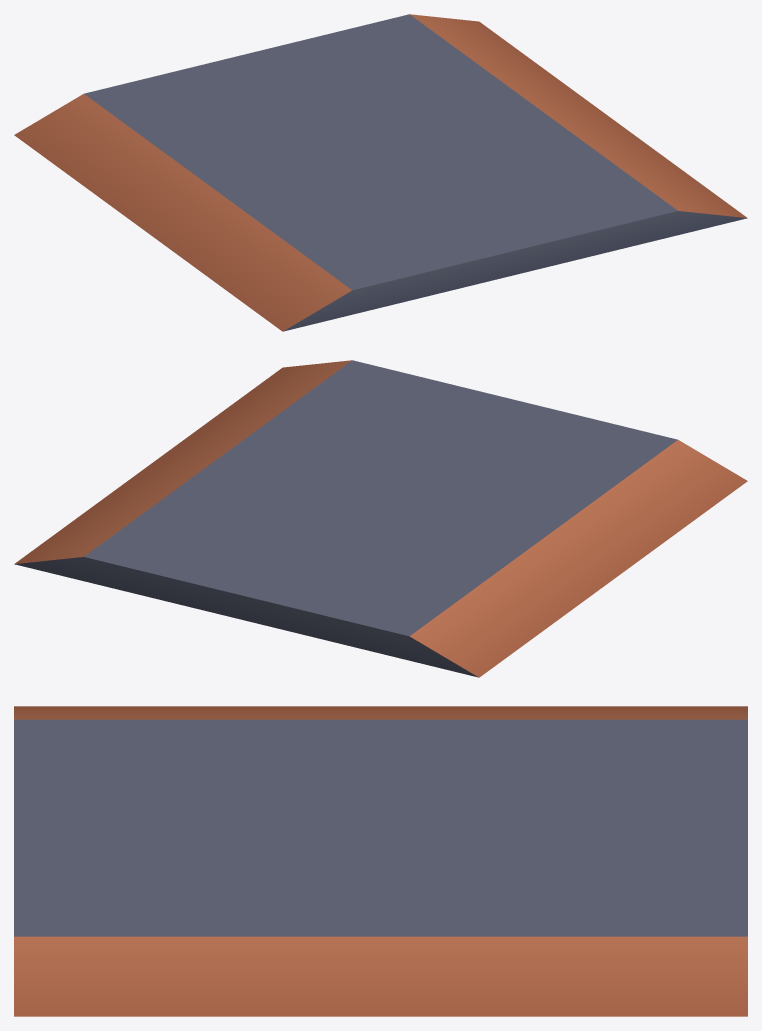
File: path-short.glb
3 views of the same model, one above another, from view 1: azimuth 30°, elevation 25°; view 2: azimuth 150°, elevation 25°; view 3: azimuth 270°, elevation 25° (orthographic). The views are drawn at different scales.
Visible parts, largest first — view 1: path-short; view 2: path-short; view 3: path-short.
Boxes of the visible parts, box(x1,y1,x2,y2) form: path-short: box(14, 14, 747, 331); path-short: box(14, 360, 747, 677); path-short: box(14, 706, 747, 1016).
Bounding box in the file's own units: 0.2 × 0.01 × 0.2.
